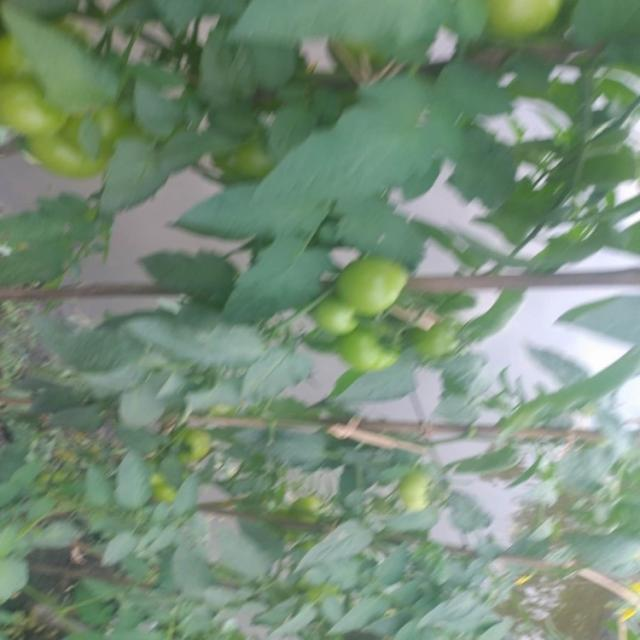tomato: (20, 120, 127, 179), (332, 249, 411, 308), (488, 1, 568, 51), (1, 69, 51, 141), (336, 316, 398, 369), (409, 312, 458, 365), (399, 467, 434, 515), (185, 421, 216, 470), (289, 486, 326, 527), (310, 299, 350, 335)
